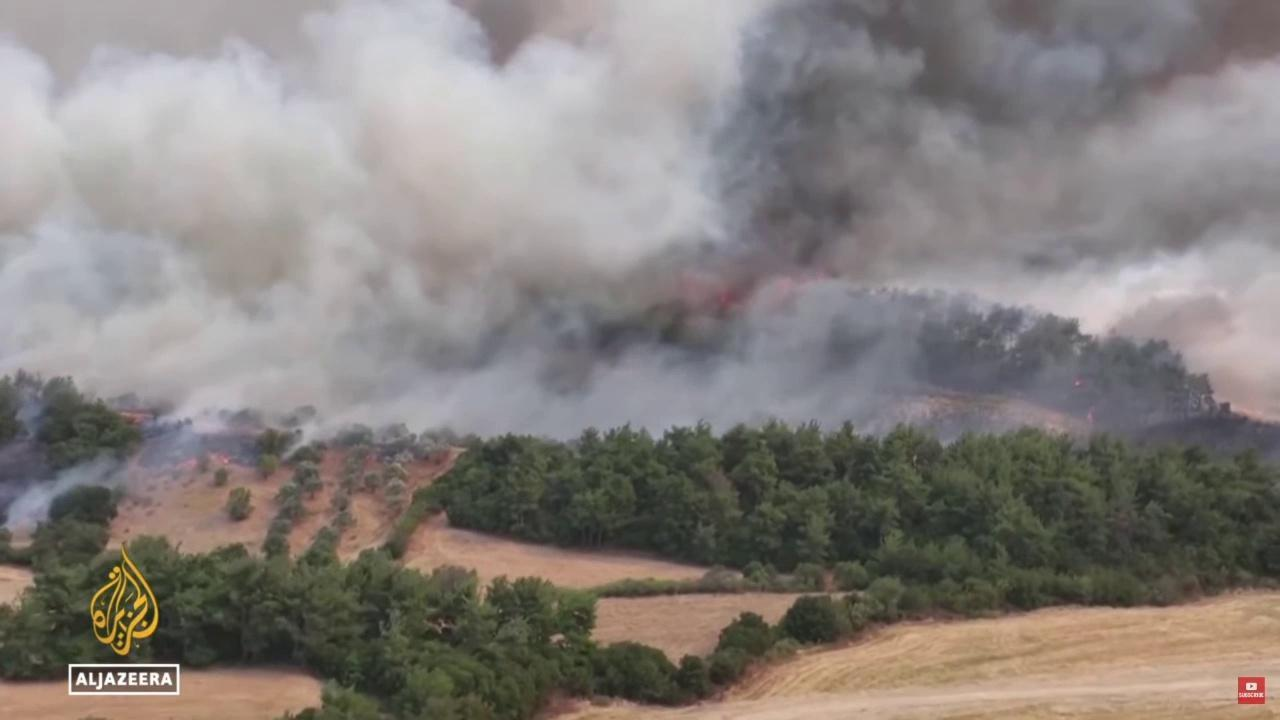fire: (1088, 411, 1093, 425), (1074, 380, 1081, 387), (223, 457, 229, 464)
smoke: (0, 0, 1280, 535)
